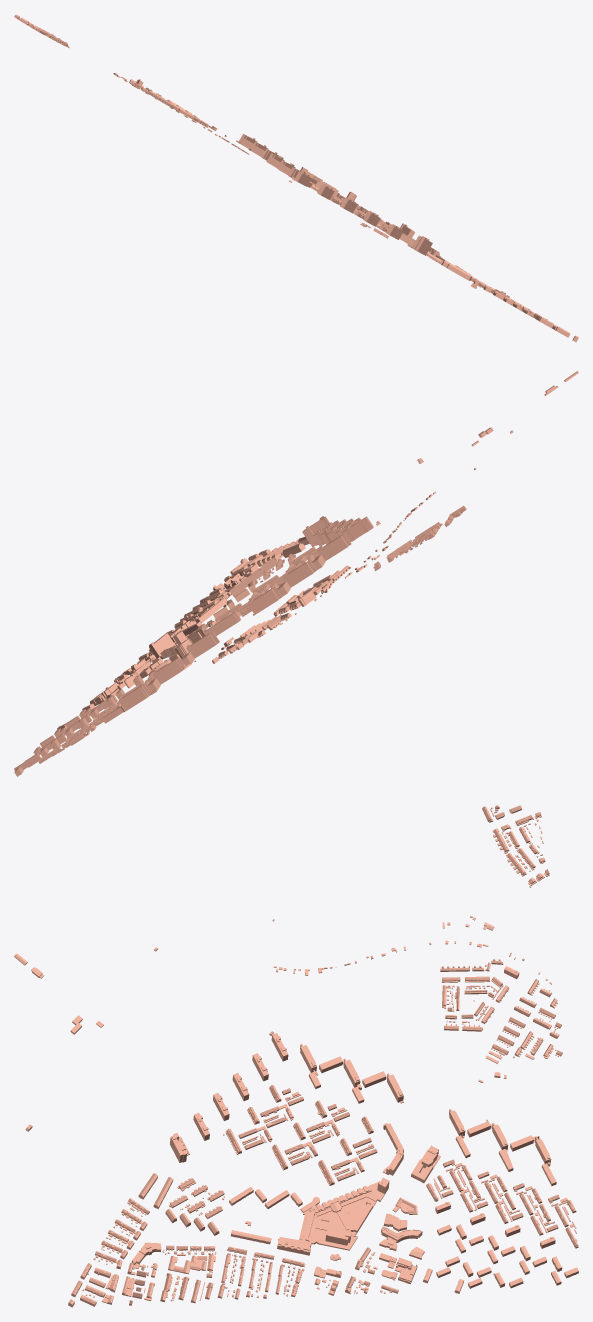
The picture shows the model from 3 angles, top to bottom: view 1: azimuth 30°, elevation 25°; view 2: azimuth 150°, elevation 25°; view 3: azimuth 270°, elevation 25°; orthographic projection. The views are drawn at different scales.
Bounding box in the file's own units: 3.46e+07 × 2.45e+07 × 4.11e+07.
